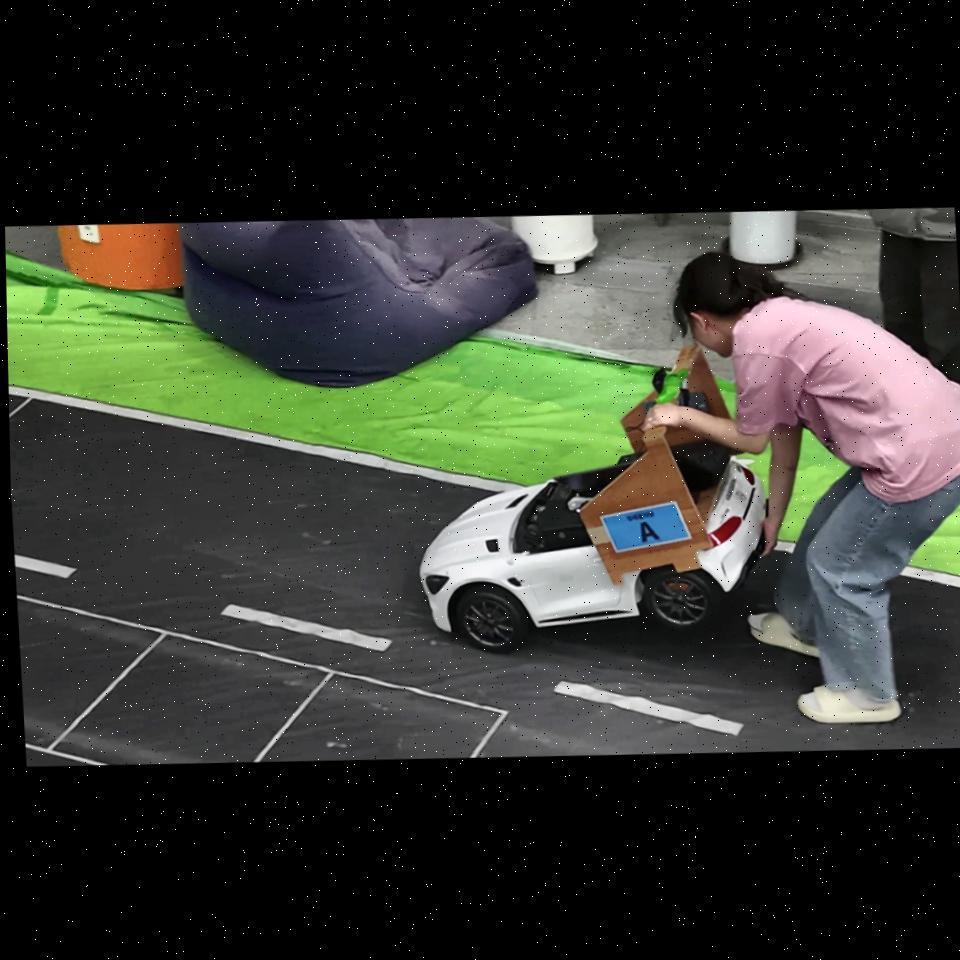broken_line: (553, 681, 744, 736), (220, 604, 393, 652), (15, 554, 78, 578)
